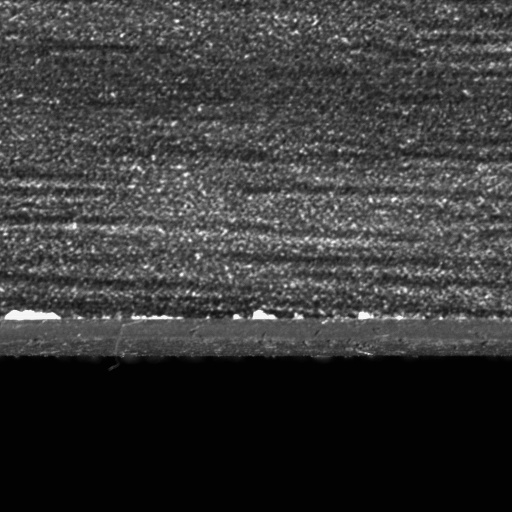huashang: (5, 306, 61, 322), (234, 309, 278, 322)
